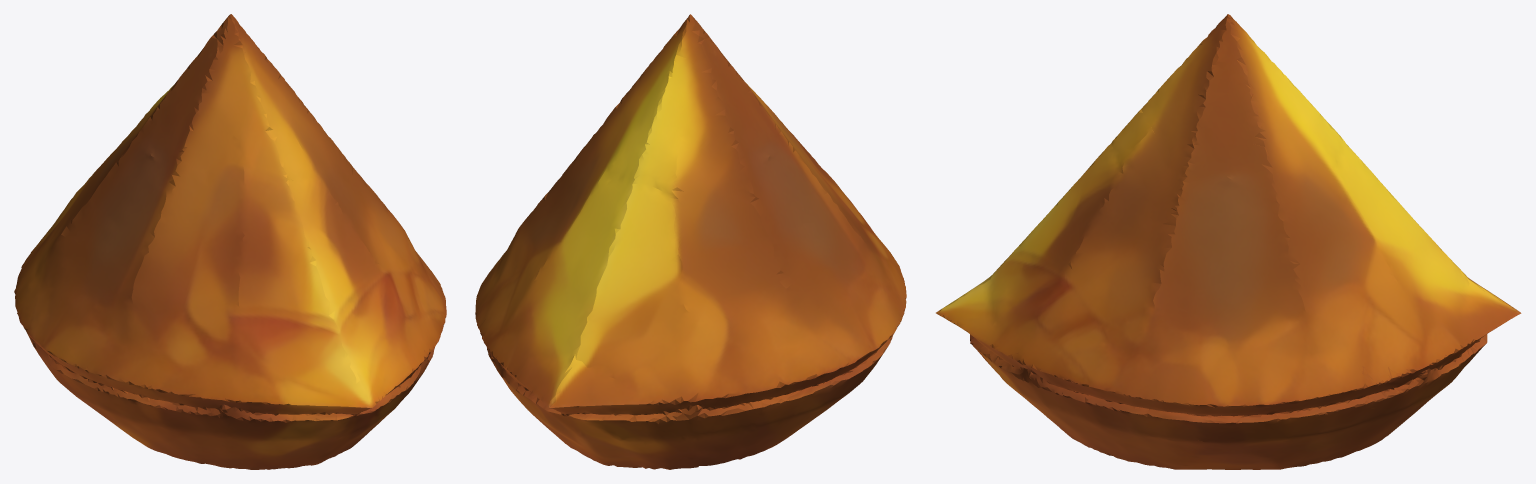
The model's file is crystal_pickup.glb.
The picture shows the model from 3 angles, left to right: view 1: azimuth 30°, elevation 25°; view 2: azimuth 150°, elevation 25°; view 3: azimuth 270°, elevation 25°; orthographic projection. The views are drawn at different scales.
Parts seen in each view (by area): view 1: crystal_pickup; view 2: crystal_pickup; view 3: crystal_pickup.
Part boxes in pixels (<box>): crystal_pickup: <box>14,14,446,469</box>; crystal_pickup: <box>475,14,906,469</box>; crystal_pickup: <box>936,14,1521,469</box>.
Bounding box in the file's own units: 0.2871 × 0.2874 × 0.3792.
Materials: 1 (1 with a texture image).
